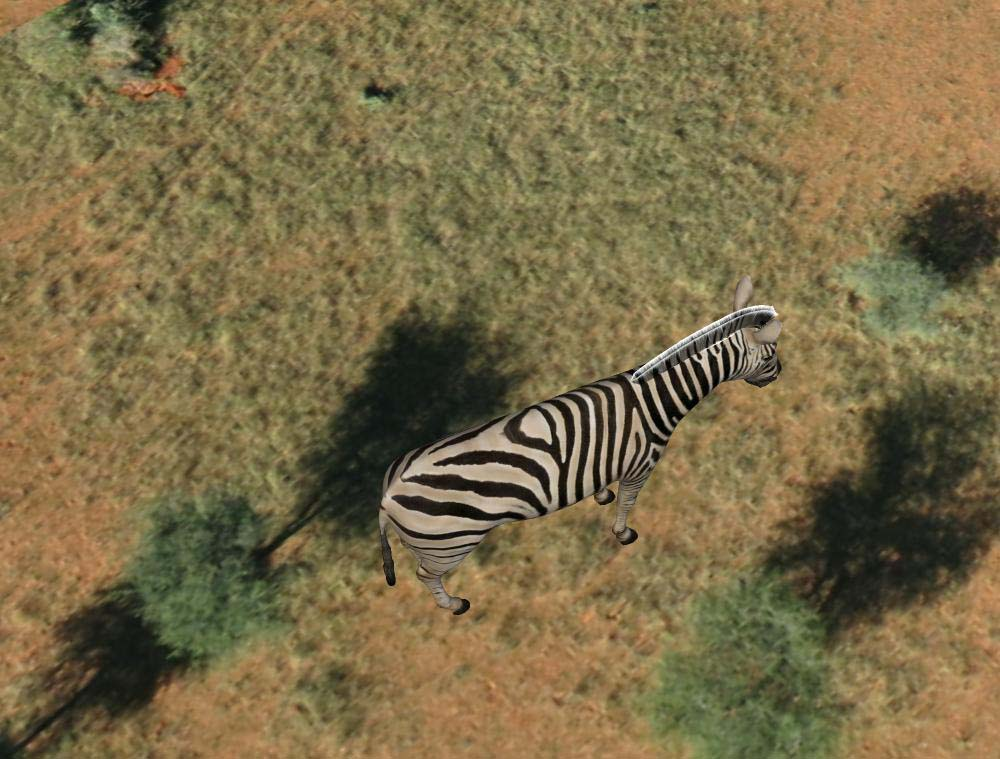zebra: (375, 291, 788, 616)
